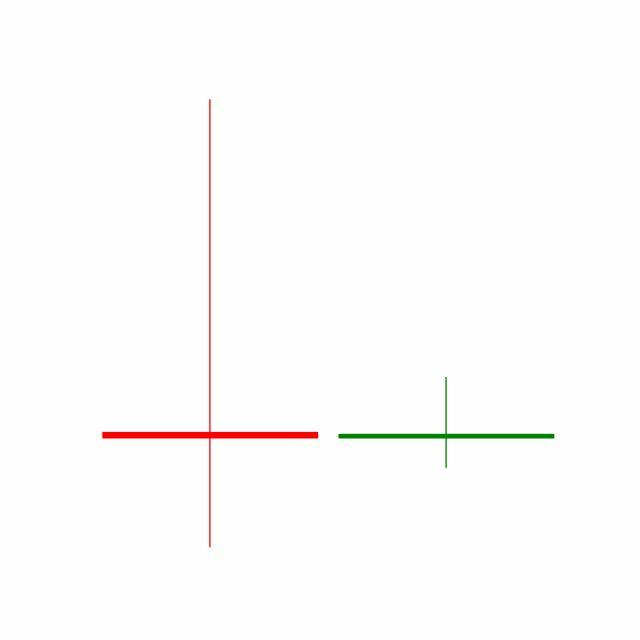Gravestone Doji: (328, 376, 566, 470)
